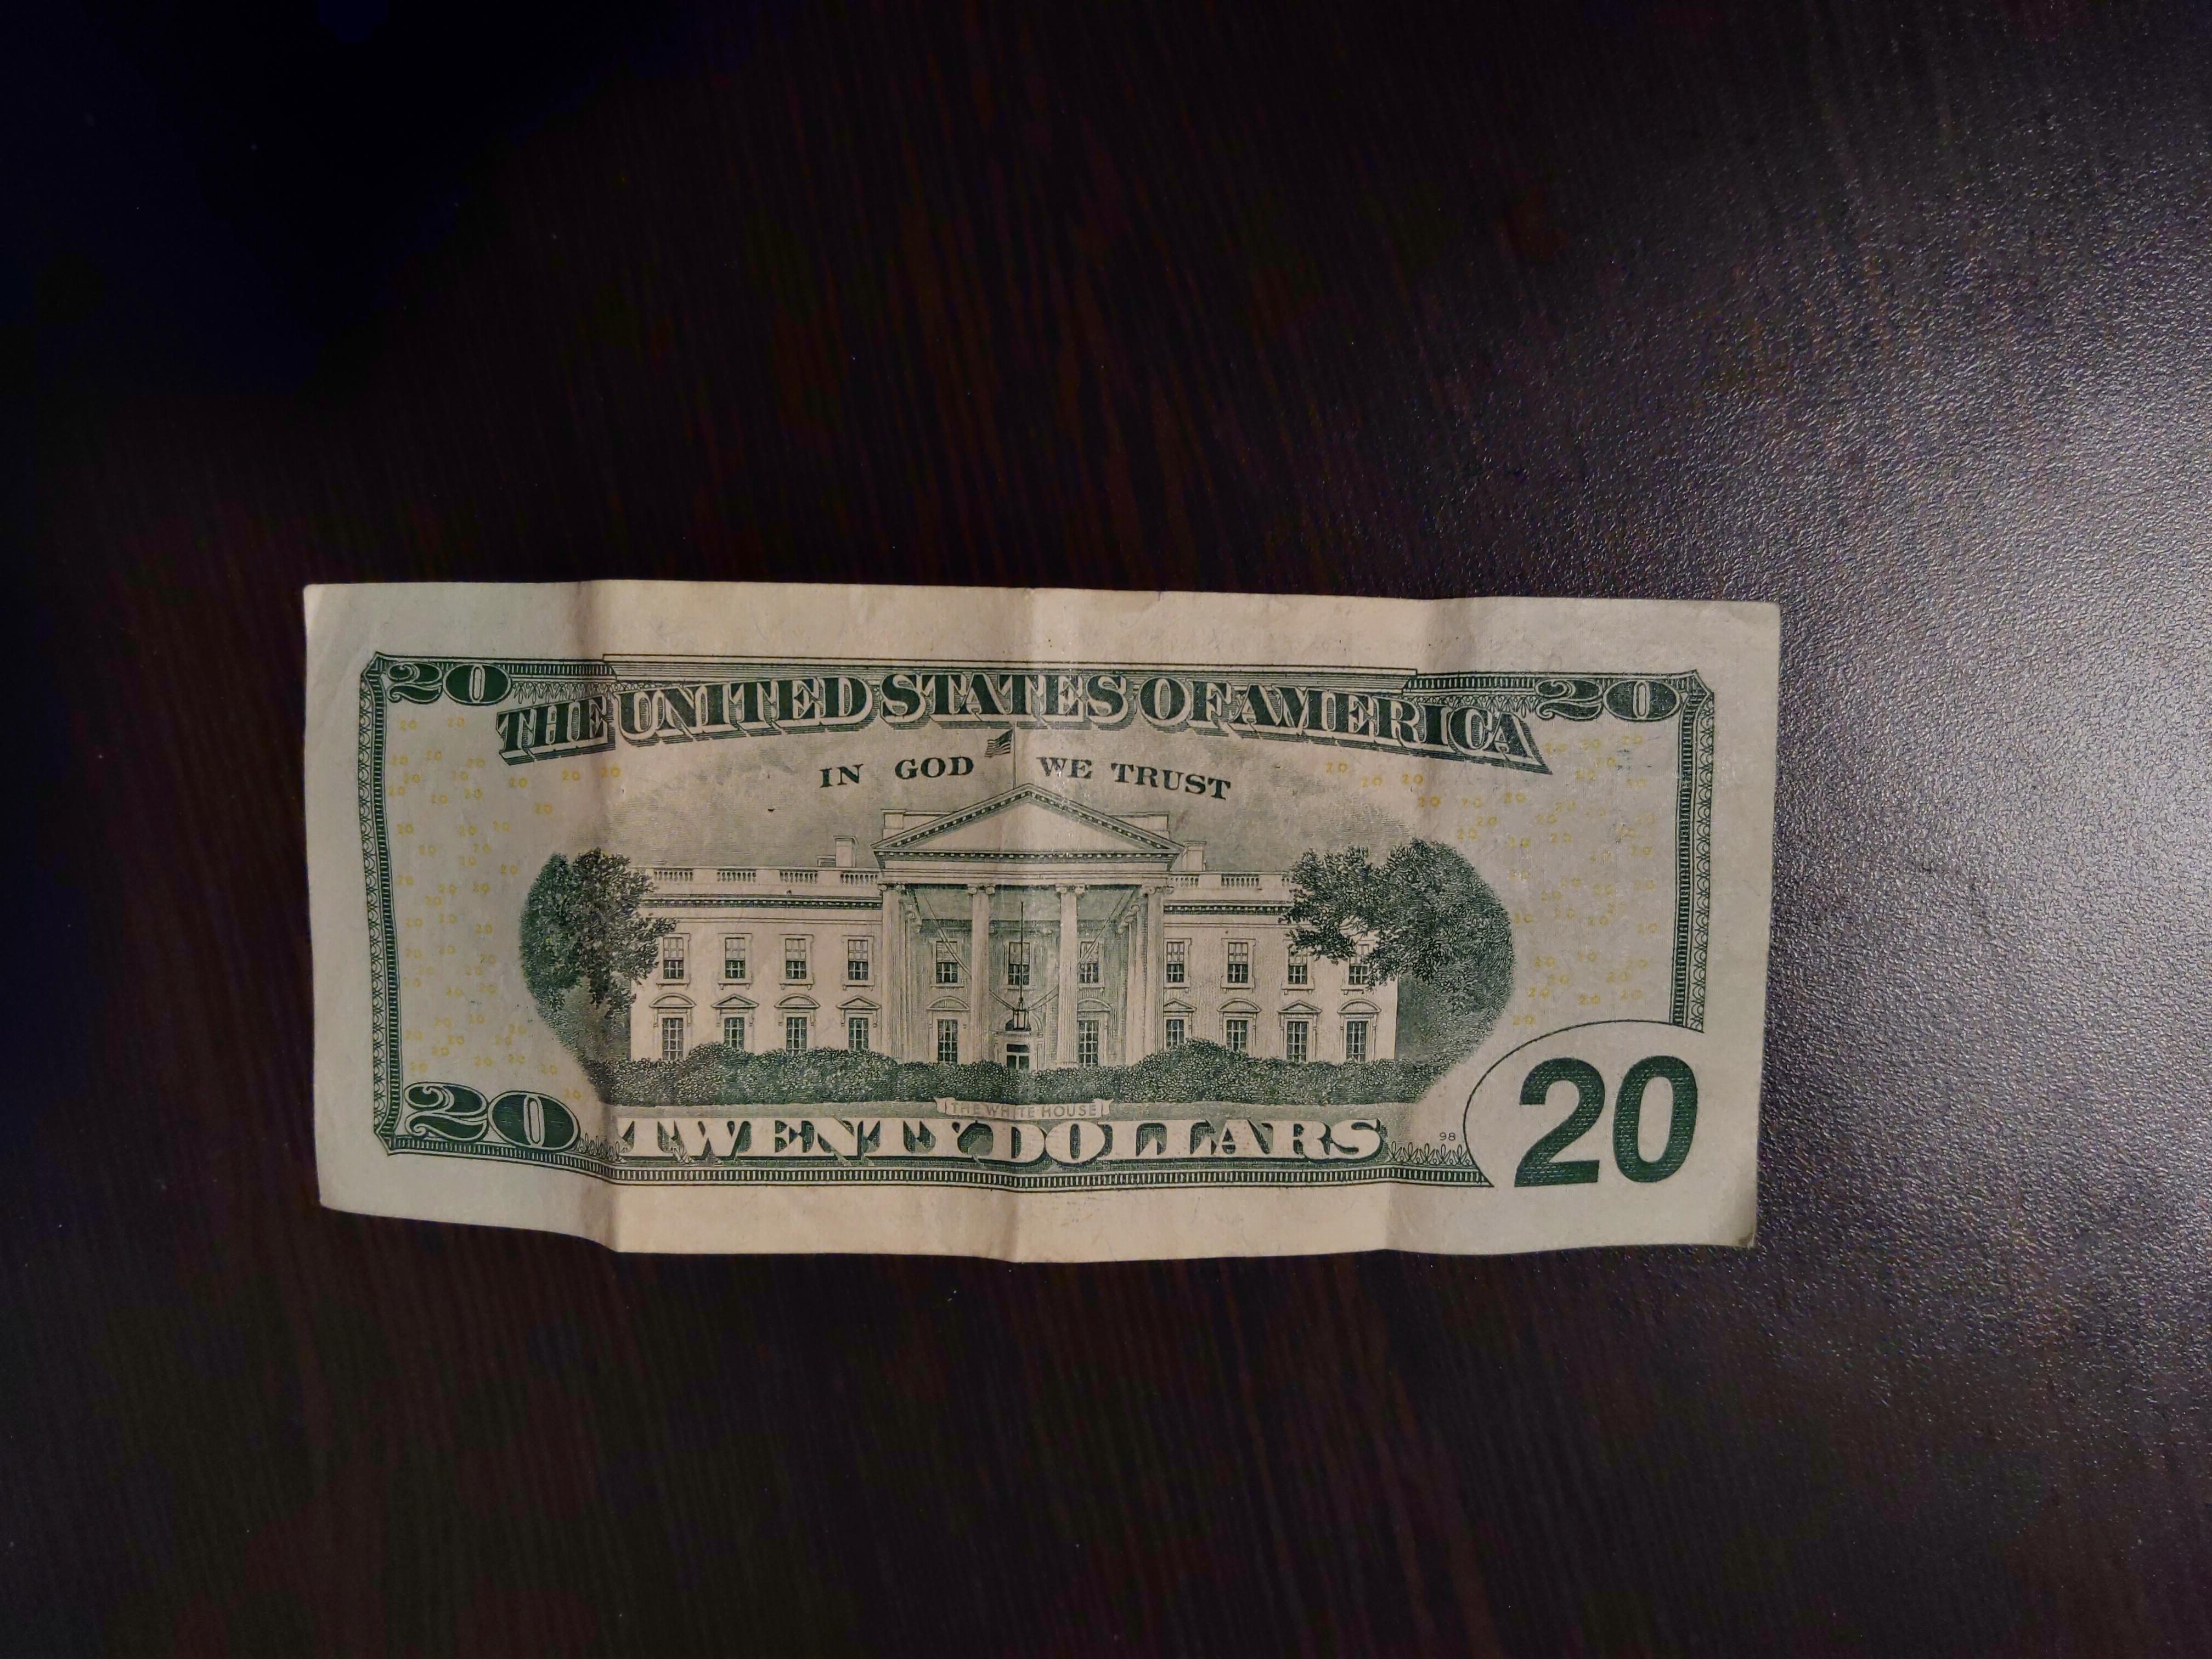TwentyBill: (296, 573, 1782, 1267)
